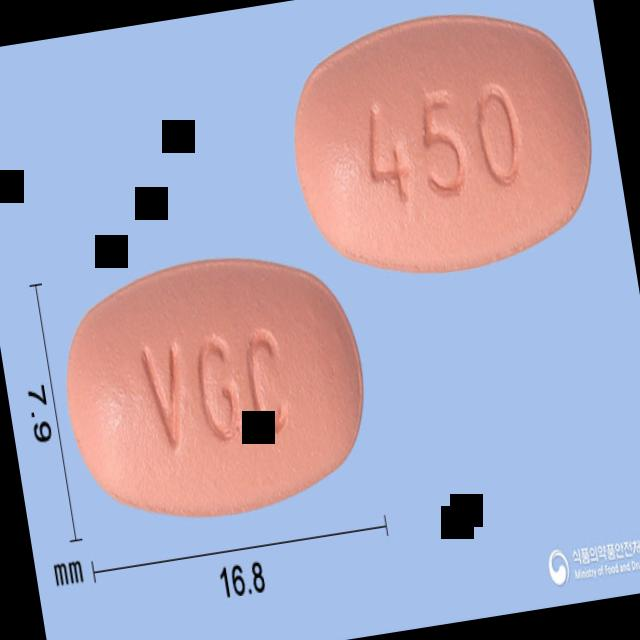Valcyte Tab: (47, 235, 382, 539), (276, 0, 611, 294)
